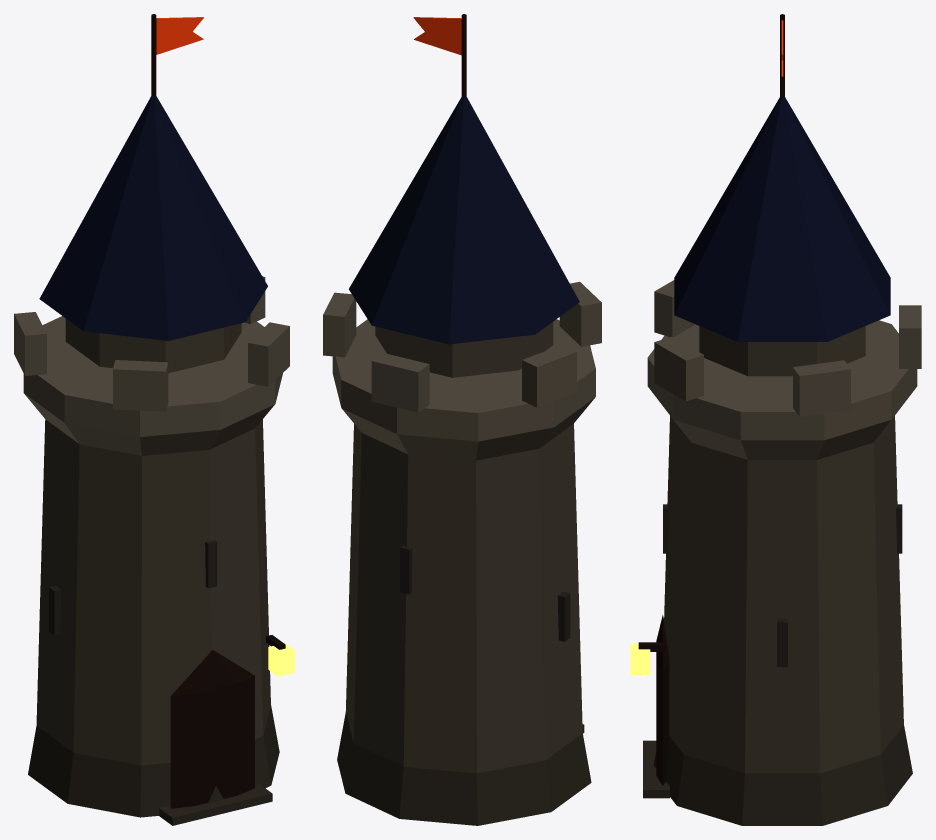
Rendered from TorrePortao.fbx.
3 views of the same model, side by side, from view 1: azimuth 30°, elevation 25°; view 2: azimuth 150°, elevation 25°; view 3: azimuth 270°, elevation 25° (orthographic).
Parts seen in each view (by area): view 1: TorrePortao; view 2: TorrePortao; view 3: TorrePortao.
Boxes of the visible parts, x1=… form: TorrePortao: x1=14, y1=14, x2=294, y2=825; TorrePortao: x1=323, y1=14, x2=601, y2=825; TorrePortao: x1=630, y1=14, x2=921, y2=825.
Size of the model in its own units: 3.12 by 9.3 by 3.24.
